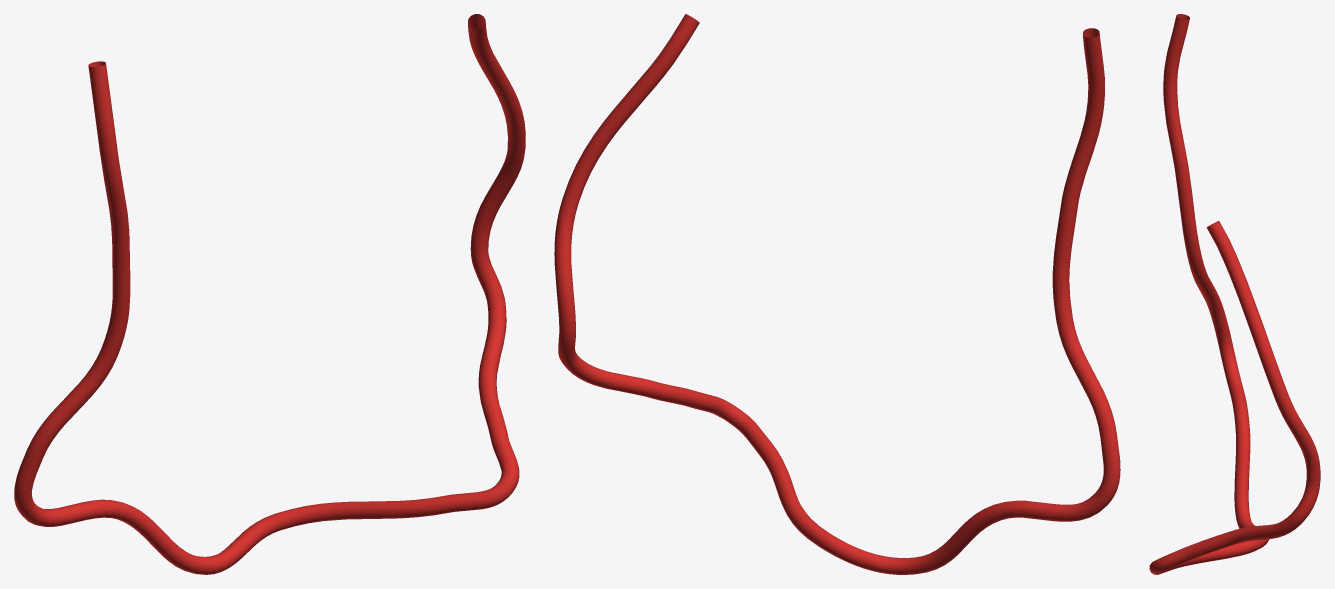
The model's file is circulatorio-deep-venous-palmar-arch-l.glb.
3 renders of one model, left to right at view 1: azimuth 30°, elevation 25°; view 2: azimuth 150°, elevation 25°; view 3: azimuth 270°, elevation 25°, orthographic. The views are drawn at different scales.
Visible parts, largest first — view 1: Deep venous palmar arch.l; view 2: Deep venous palmar arch.l; view 3: Deep venous palmar arch.l.
Boxes of the visible parts, x1=… form: Deep venous palmar arch.l: x1=14, y1=14, x2=525, y2=574; Deep venous palmar arch.l: x1=554, y1=14, x2=1120, y2=574; Deep venous palmar arch.l: x1=1149, y1=14, x2=1320, y2=574.
Bounding box in the file's own units: 0.0487 × 0.0492 × 0.0168.
